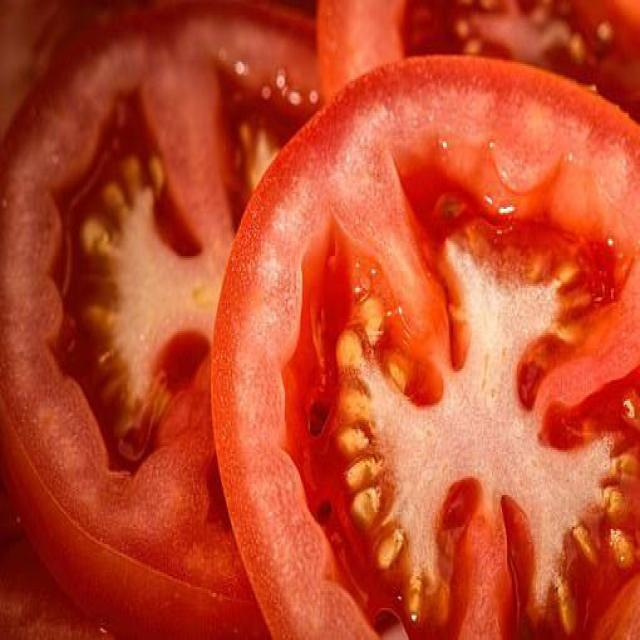Tomato: (210, 52, 635, 640)
